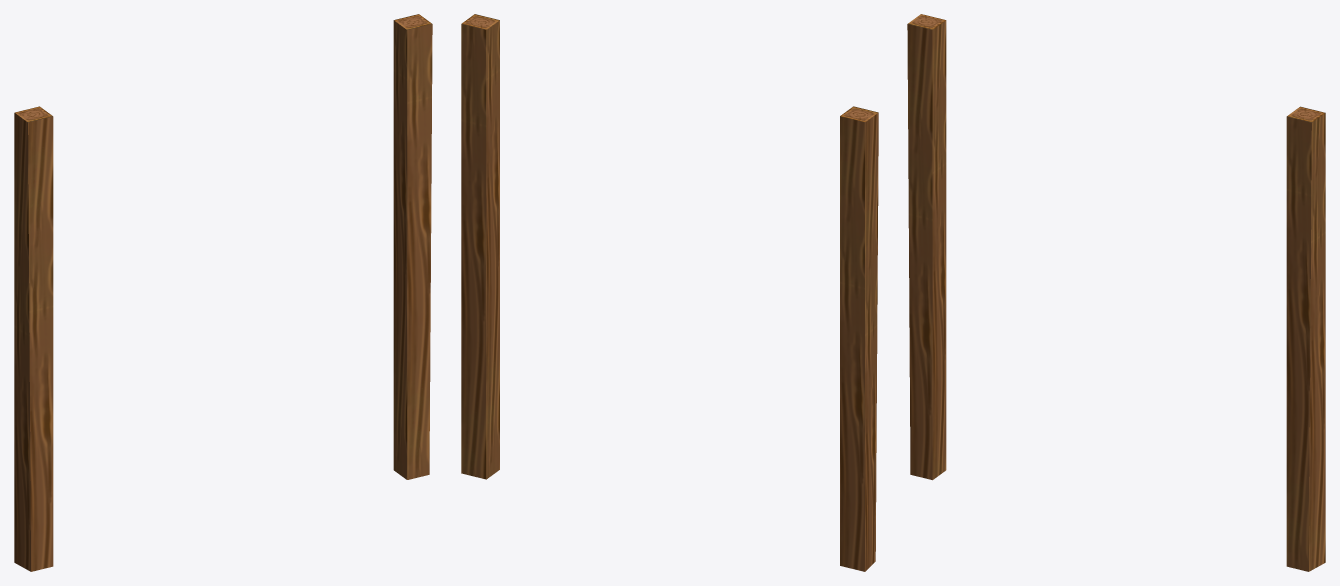
The picture shows the model from 3 angles, left to right: view 1: azimuth 30°, elevation 25°; view 2: azimuth 150°, elevation 25°; view 3: azimuth 330°, elevation 25°; orthographic projection.
Visible parts, largest first — view 1: Cube.842; view 2: Cube.842; view 3: Cube.842.
Part boxes in pixels (x1,y1,x2,y2): Cube.842: (14, 14, 432, 571); Cube.842: (461, 14, 878, 571); Cube.842: (907, 14, 1325, 571).
Bounding box in the file's own units: 629 × 668 × 36.76.
Materials: 1 (1 with a texture image).
